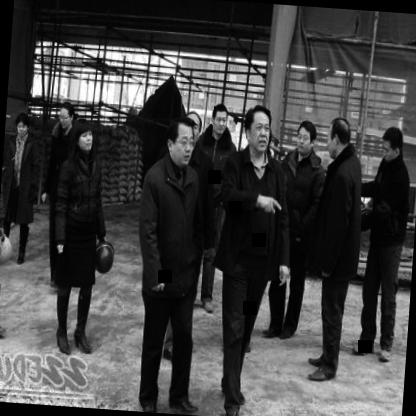head: (242, 102, 276, 160), (165, 114, 197, 166), (324, 114, 354, 162), (69, 118, 98, 160), (380, 123, 407, 165), (294, 118, 320, 157), (210, 101, 230, 138), (184, 110, 203, 146), (56, 99, 76, 133), (14, 108, 34, 140)
